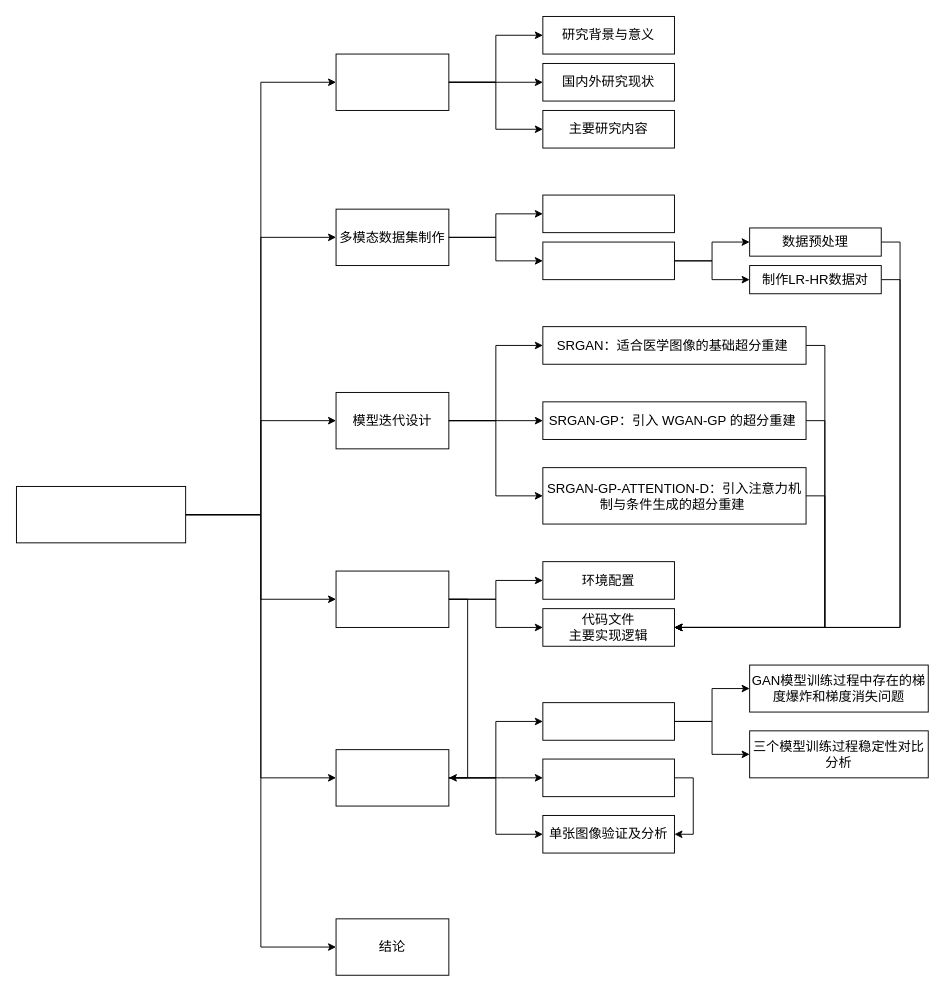
The diagram is 945 pixels wide and 992 high, and some of its shapes have lost their labels. The shapes that lost their labels are listed below. From the top down, each one's centre as x and y in pixels, then its label:
At point (392, 81): "绪论".
At point (608, 213): "多模态原始数据采集".
At point (608, 260): "各模态适应性处理".
At point (101, 514): "基于生成对抗网络的医学图像自动修复技术研究".
At point (392, 598): "算法环境与 代码实现".
At point (608, 721): "训练过程稳定性分析".
At point (392, 777): "评估验证".
At point (608, 777): "基准测试指标分析".
